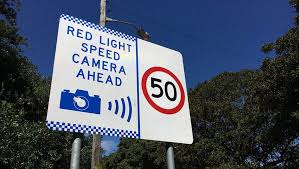sp50: (143, 62, 188, 118)
